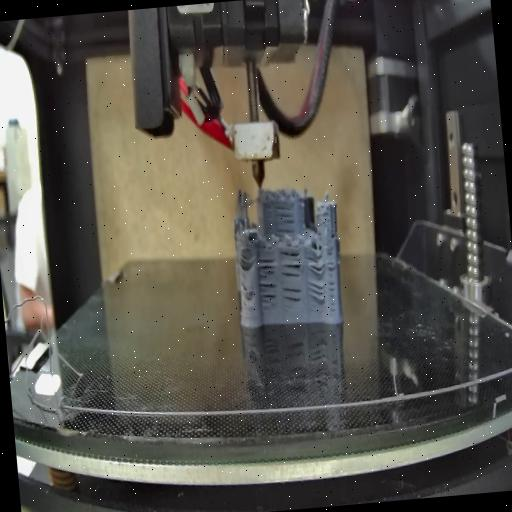cracks: (324, 248, 341, 314), (278, 247, 302, 280), (274, 202, 296, 234), (258, 278, 278, 310), (305, 280, 327, 306), (303, 254, 325, 278), (278, 284, 302, 306), (256, 251, 276, 275), (240, 276, 254, 305), (236, 252, 254, 270), (328, 225, 337, 241)
